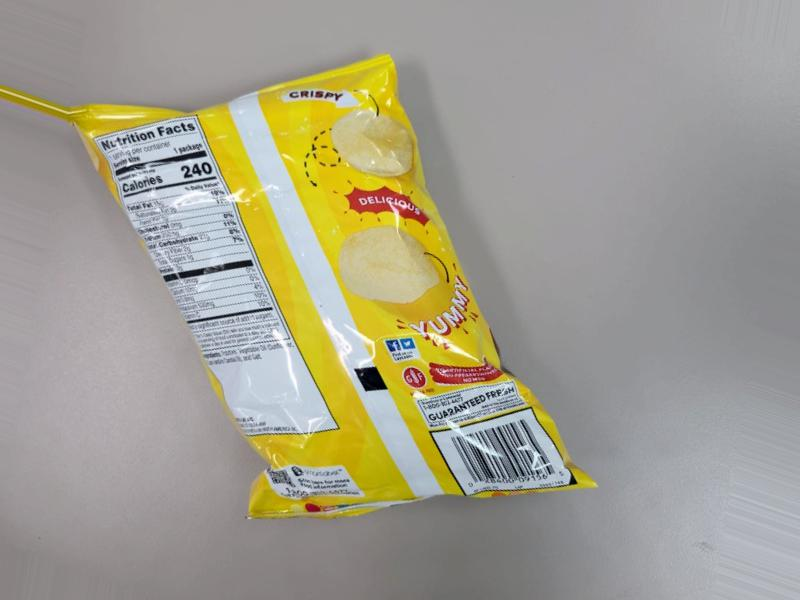lays: (136, 0, 565, 553)
